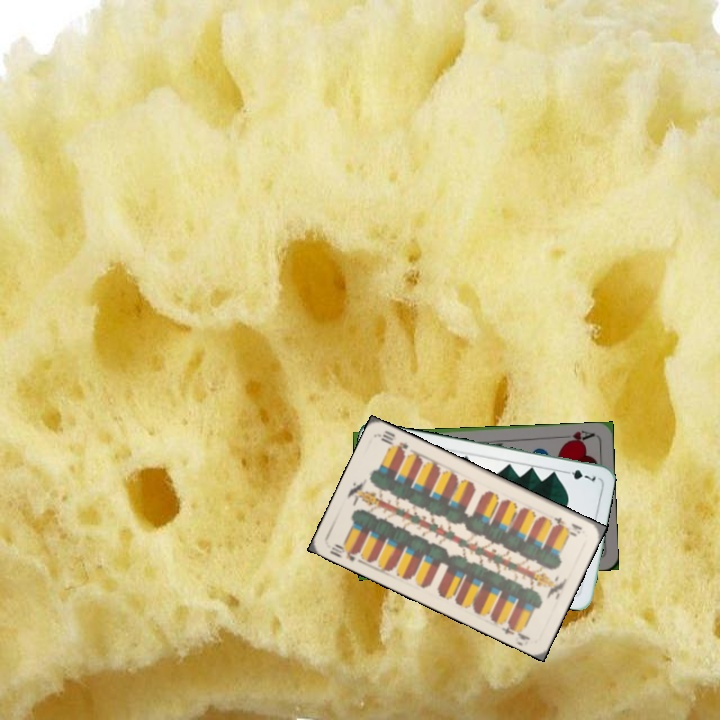E10: (326, 540, 365, 564), (550, 513, 585, 537)
G7: (559, 465, 598, 485)
HA: (556, 426, 597, 446)
